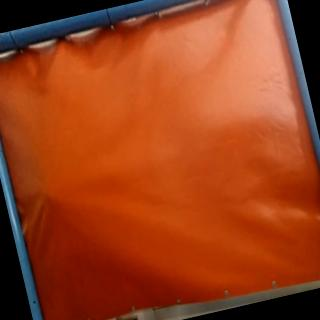Hit-hRxx: (36, 183, 54, 201)
